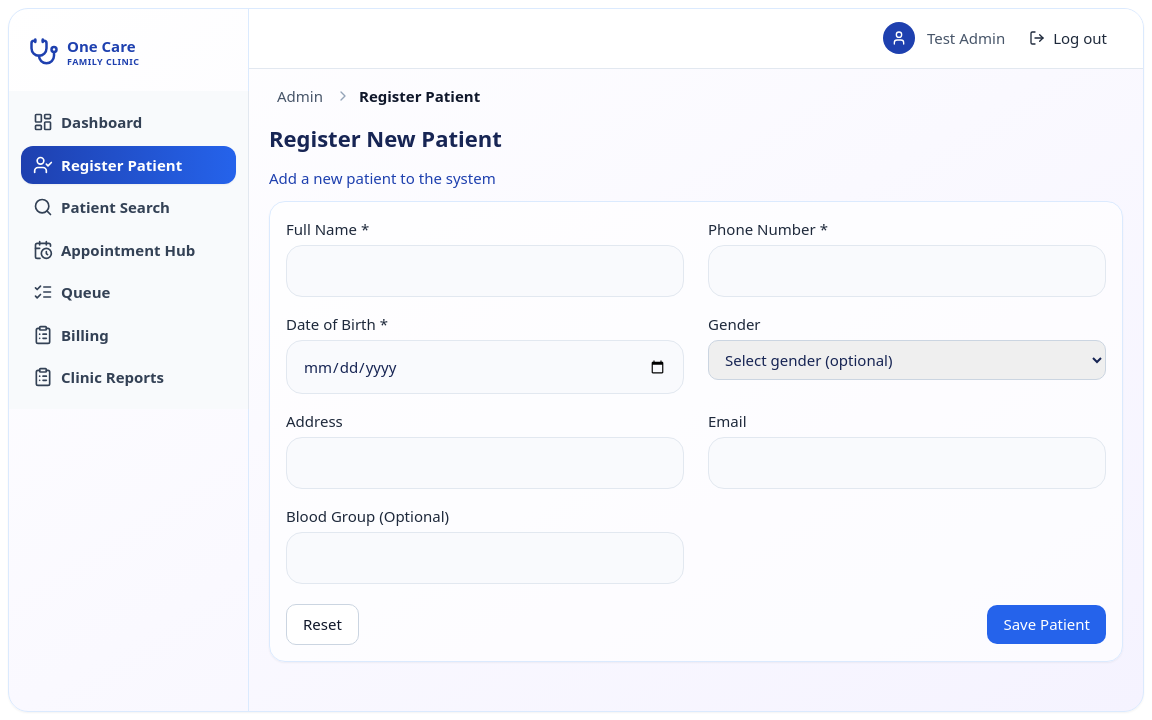
Test: ADM-02 registration through real routing and authenticated HTTP client › handles 403 without losing values or exposing raw errors
The width and height of the screenshot is (1152, 720).
Type "Example Patient" into the field labelled "Full Name*".
click(485, 271); type("Example Patient")  # box [286,245,684,297]
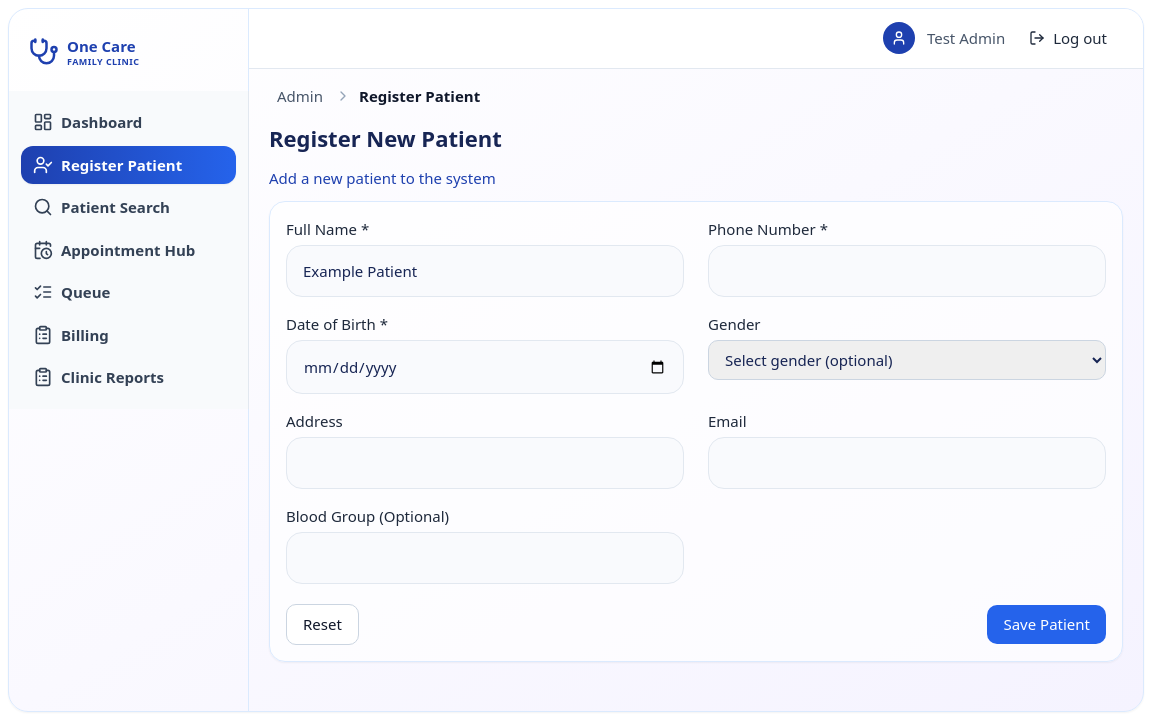
Type "example-phone" into the field labelled "Phone Number*".
click(907, 271); type("example-phone")  # box [708,245,1106,297]
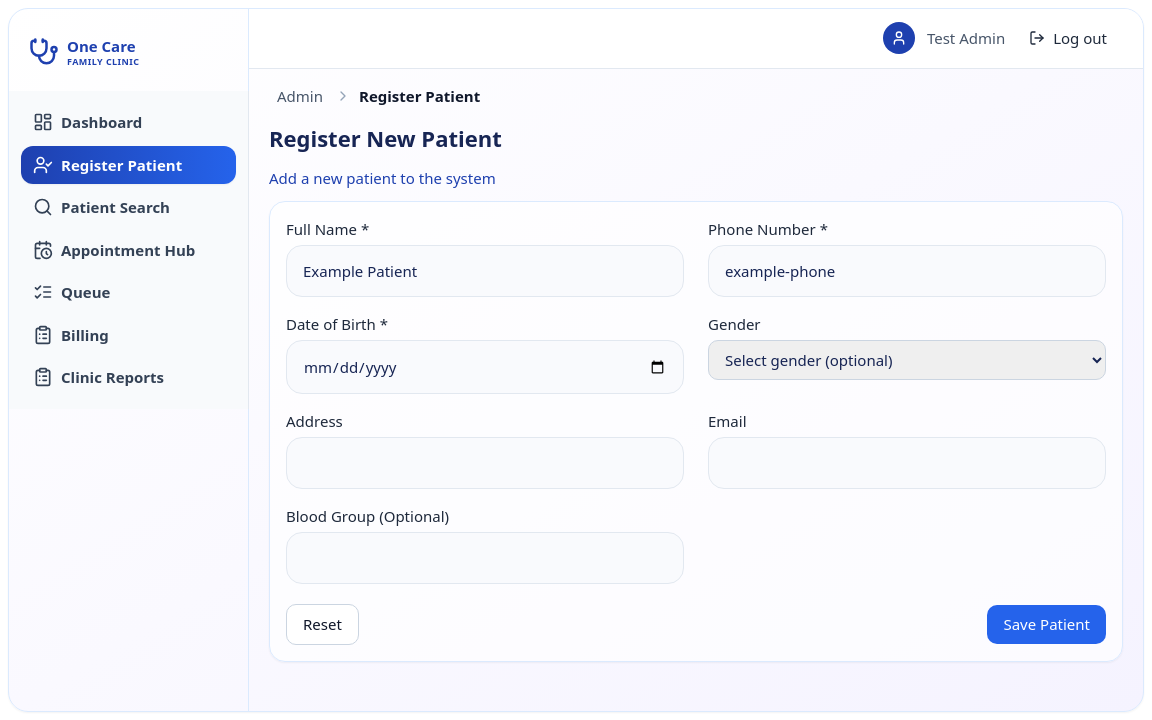
Type "2090-01-15" into the date field labelled "Date of Birth*".
click(485, 367); type("2090-01-15")  # box [286,340,684,394]
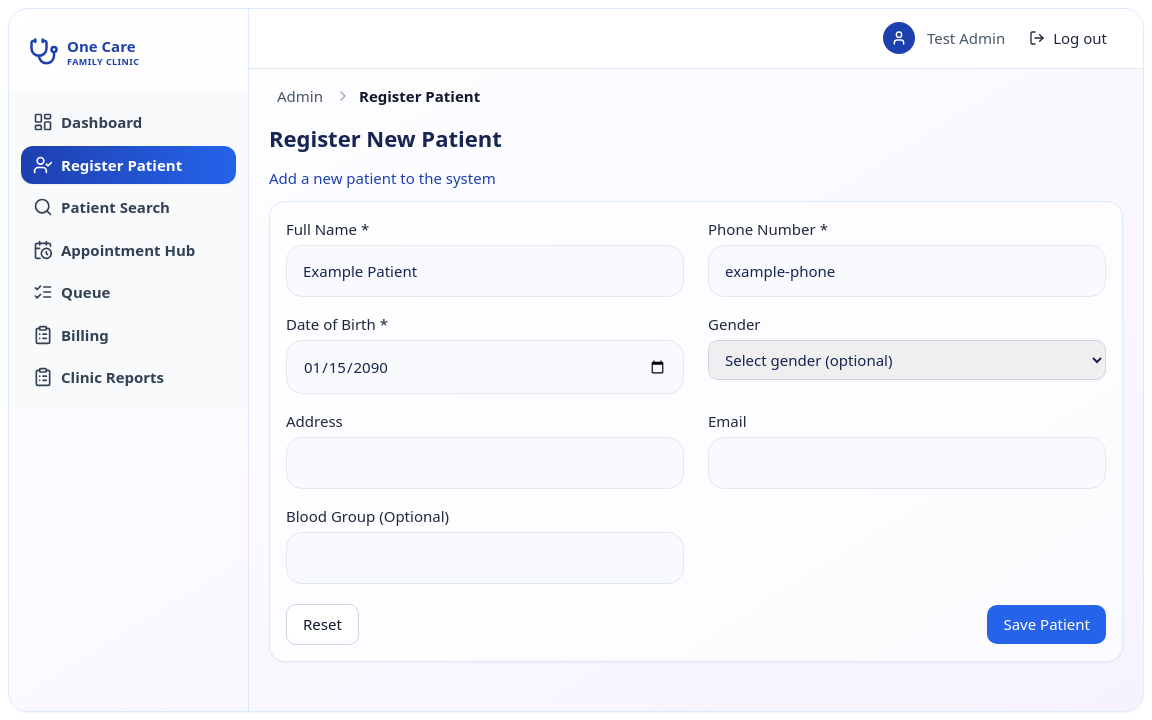
Click the button "Save Patient".
click(1047, 625)  # box [987,605,1106,644]
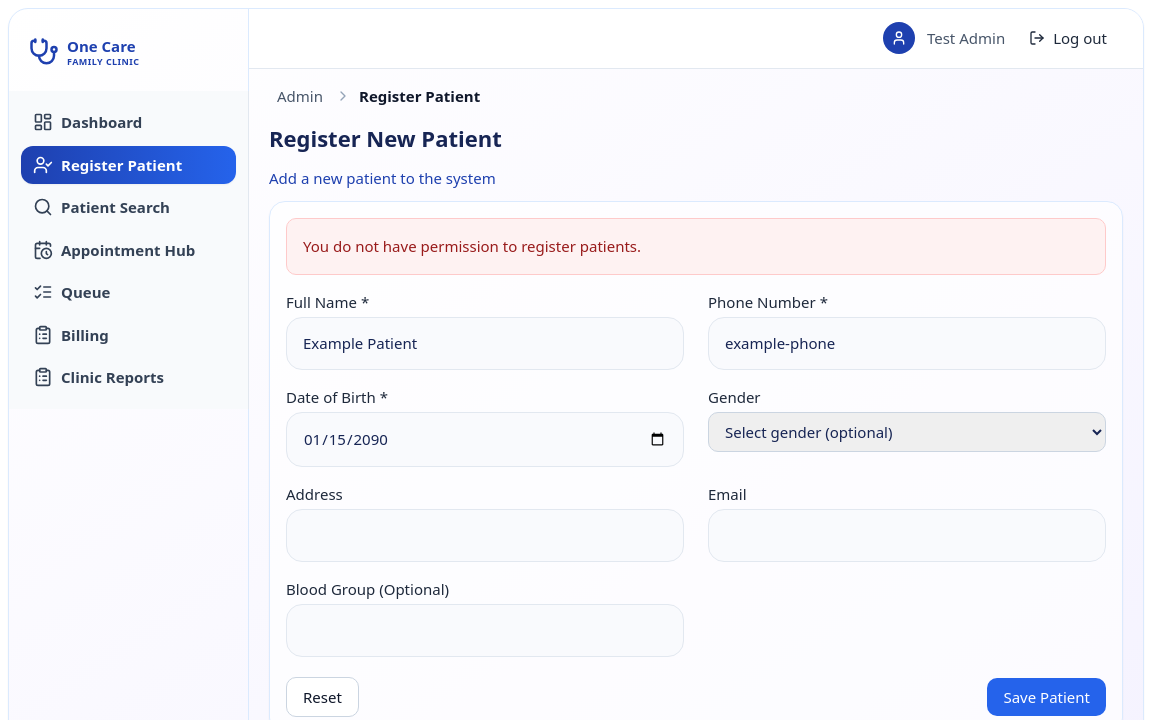
Result: the message shows "permission" at [303,236,641,256]
